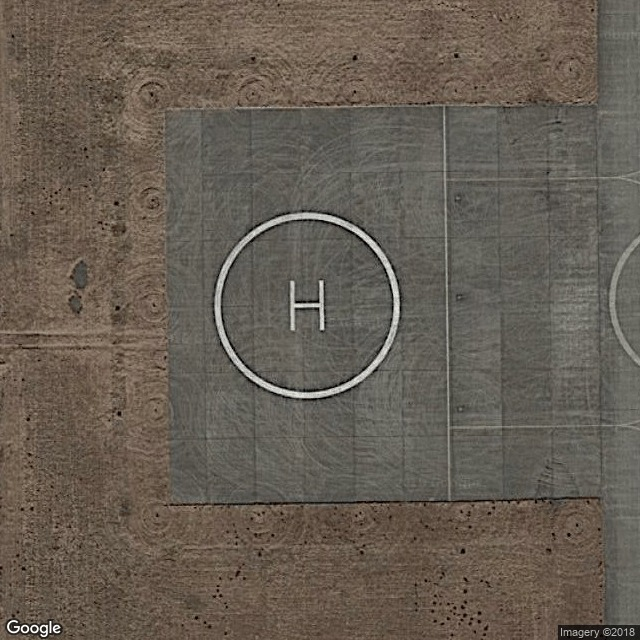heliport: (285, 274, 326, 334)
